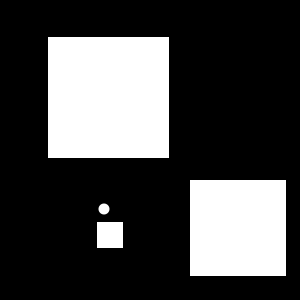circle: (48, 37, 169, 158), (190, 180, 286, 276), (97, 222, 123, 248)
rectangle: (99, 204, 110, 214)
